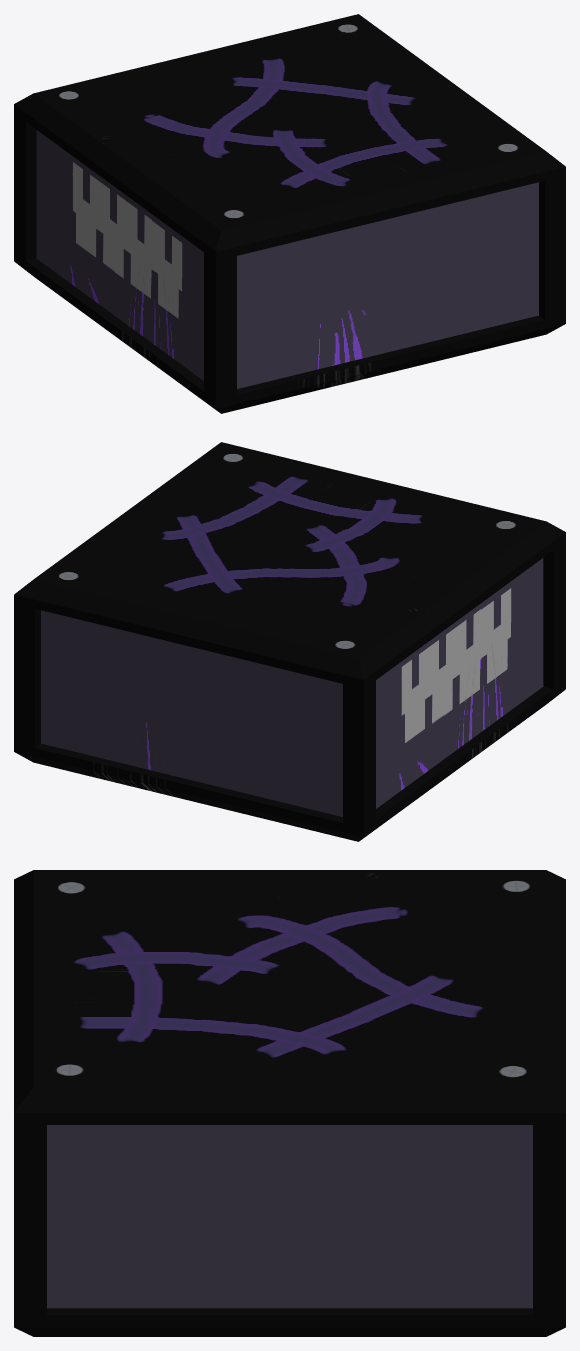
3 renders of one model, top to bottom at view 1: azimuth 30°, elevation 25°; view 2: azimuth 150°, elevation 25°; view 3: azimuth 270°, elevation 25°, orthographic. The views are drawn at different scales.
Visible parts, largest first — view 1: skrzynia1.001; view 2: skrzynia1.001; view 3: skrzynia1.001.
Part boxes in pixels (x1,y1,x2,y2): skrzynia1.001: (14,14,565,413); skrzynia1.001: (14,442,565,841); skrzynia1.001: (14,870,565,1336).
Bounding box in the file's own units: 1 × 0.5 × 1.
1 material, 1 textured.
